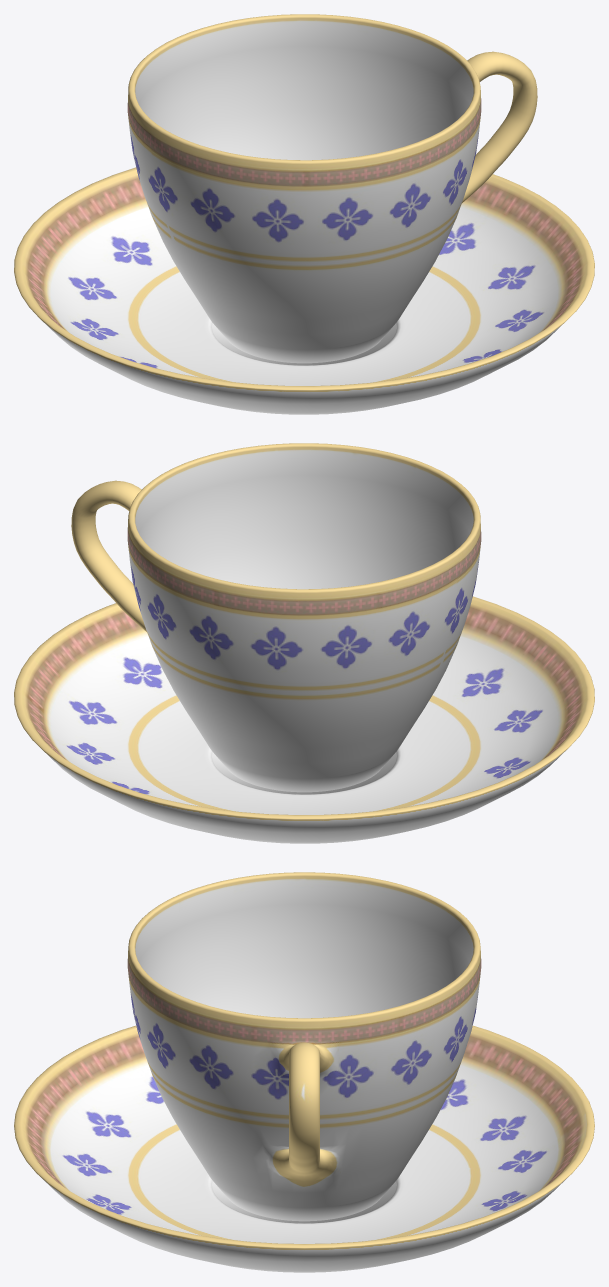
Rendered from obj_cup_saucer_49d0b3.glb.
3 renders of one model, top to bottom at view 1: azimuth 30°, elevation 25°; view 2: azimuth 150°, elevation 25°; view 3: azimuth 270°, elevation 25°, orthographic.
Parts seen in each view (by area): view 1: obj_cup_saucer_49d0b3; view 2: obj_cup_saucer_49d0b3; view 3: obj_cup_saucer_49d0b3.
Boxes of the visible parts, bbox=[...] form: obj_cup_saucer_49d0b3: bbox=[14, 14, 594, 414]; obj_cup_saucer_49d0b3: bbox=[14, 443, 594, 843]; obj_cup_saucer_49d0b3: bbox=[14, 872, 594, 1272].
Size of the model in its own units: 0.1346 by 0.07 by 0.1346.
Materials: 1 (1 with a texture image).
